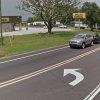Car: (63, 21, 95, 53)
